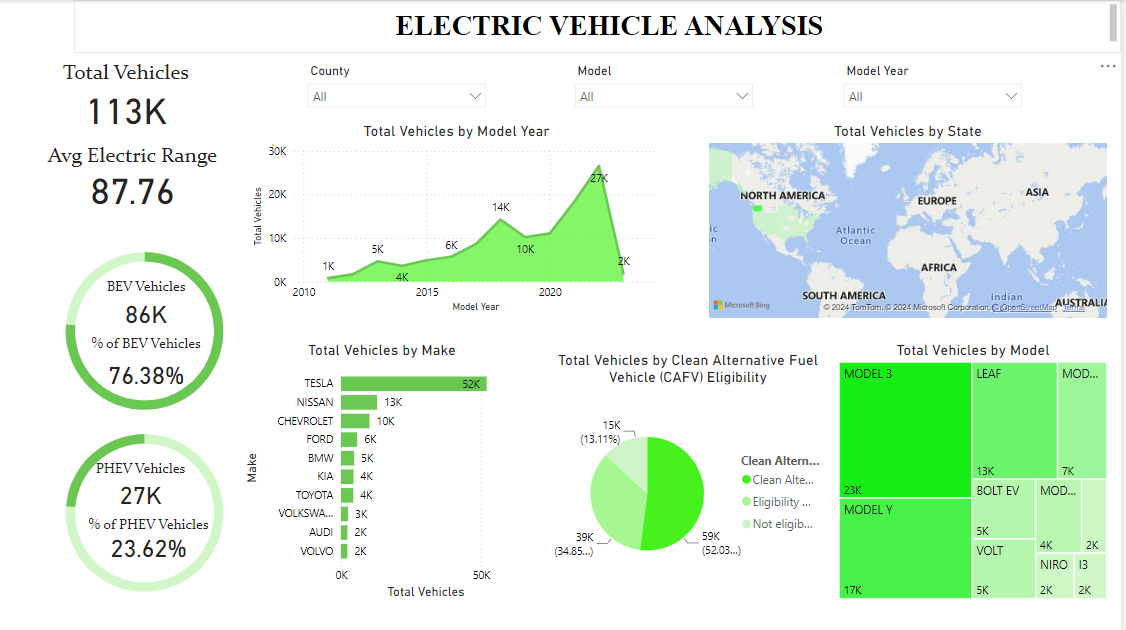

Layout of this report page (visuals, bound fields, positions):
{"tool":"powerbi","page":{"name":"Page 1","canvas":[1280,720],"ordinal":0},"visuals":[{"type":"card","title":"Total Vehicles","fields":{"Values":["Table.Total Vehicles"]},"box":[39.9,67.2,214.2,86.6],"z":0},{"type":"card","title":"Avg Electric Range","fields":{"Values":["Avg(electric vehicle data.Electric Range)"]},"box":[45.6,161.8,217.6,79.7],"z":1000},{"type":"card","title":"BEV Vehicles","fields":{"Values":["Table.BHV Vehicles"]},"box":[45.6,316.7,248.4,64.9],"z":2000},{"type":"card","title":"PHEV Vehicles","fields":{"Values":["Table.PHEV Vehicles"]},"box":[39.9,524.1,247.2,63.8],"z":3000},{"type":"card","title":"% of BEV Vehicles","fields":{"Values":["Table.% BHV Vehicles"]},"box":[74.1,381.6,191.4,74.1],"z":4000},{"type":"card","title":"% of PHEV Vehicles","fields":{"Values":["Table.% of PHEV Vehicles"]},"box":[51.3,587.8,242.7,57],"z":5000},{"type":"textbox","box":[87.7,0,1192.8,60.4],"z":6000},{"type":"donutChart","fields":{"Y":["CountNonNull(electric vehicle data.Vehicle Location)"],"Category":["electric vehicle data.Electric Vehicle Type"]},"box":[45.6,259.7,244.9,234.7],"z":7000},{"type":"donutChart","fields":{"Y":["CountNonNull(electric vehicle data.Vehicle Location)"],"Category":["electric vehicle data.Electric Vehicle Type"]},"box":[45.6,467.1,244.9,234.7],"z":8000},{"type":"areaChart","fields":{"Category":["electric vehicle data.Model Year"],"Y":["Table.Total Vehicles"]},"box":[287.1,139,472.8,221],"z":9000},{"type":"clusteredBarChart","fields":{"Category":["electric vehicle data.Make"],"Y":["Table.Total Vehicles"]},"box":[276.8,388.5,323.5,298.5],"z":10000},{"type":"pieChart","fields":{"Y":["Table.Total Vehicles"],"Category":["electric vehicle data.Clean Alternative Fuel Vehicle (CAFV) Eligibility"]},"box":[628.9,399.9,316.7,287.1],"z":11000},{"type":"treemap","fields":{"Group":["electric vehicle data.Model"],"Values":["Table.Total Vehicles"]},"box":[954.7,388.5,314.4,298.5],"z":12000},{"type":"filledMap","fields":{"Category":["electric vehicle data.State"],"Y":["Table.Total Vehicles"]},"box":[806.6,139,462.5,227.8],"z":13000},{"type":"slicer","fields":{"Values":["electric vehicle data.County"]},"box":[344.1,67.2,223.3,60.4],"z":14000},{"type":"slicer","fields":{"Values":["electric vehicle data.Model Year"]},"box":[954.7,67.2,223.3,60.4],"z":15000},{"type":"slicer","fields":{"Values":["electric vehicle data.Model"]},"box":[648.2,67.2,223.3,60.4],"z":16000}]}

Visuals, with their boxes in screenshot pixels (x1, y1, x2, y2), scaled from the page's 1280x720 canvas onto the 1126x630 screenshot:
"Total Vehicles" card: [left=35, top=59, right=224, bottom=135]
"Avg Electric Range" card: [left=40, top=142, right=232, bottom=211]
"BEV Vehicles" card: [left=40, top=277, right=259, bottom=334]
"PHEV Vehicles" card: [left=35, top=459, right=253, bottom=514]
"% of BEV Vehicles" card: [left=65, top=334, right=234, bottom=399]
"% of PHEV Vehicles" card: [left=45, top=514, right=259, bottom=564]
textbox: [left=77, top=0, right=1125, bottom=53]
donutChart - CountNonNull(electric vehicle data.Vehicle Location) x electric vehicle data.Electric Vehicle Type: [left=40, top=227, right=256, bottom=433]
donutChart - CountNonNull(electric vehicle data.Vehicle Location) x electric vehicle data.Electric Vehicle Type: [left=40, top=409, right=256, bottom=614]
areaChart - electric vehicle data.Model Year x Table.Total Vehicles: [left=253, top=122, right=668, bottom=315]
clusteredBarChart - electric vehicle data.Make x Table.Total Vehicles: [left=243, top=340, right=528, bottom=601]
pieChart - Table.Total Vehicles x electric vehicle data.Clean Alternative Fuel Vehicle (CAFV) Eligibility: [left=553, top=350, right=832, bottom=601]
treemap - electric vehicle data.Model x Table.Total Vehicles: [left=840, top=340, right=1116, bottom=601]
filledMap - electric vehicle data.State x Table.Total Vehicles: [left=710, top=122, right=1116, bottom=321]
slicer - electric vehicle data.County: [left=303, top=59, right=499, bottom=112]
slicer - electric vehicle data.Model Year: [left=840, top=59, right=1036, bottom=112]
slicer - electric vehicle data.Model: [left=570, top=59, right=767, bottom=112]
